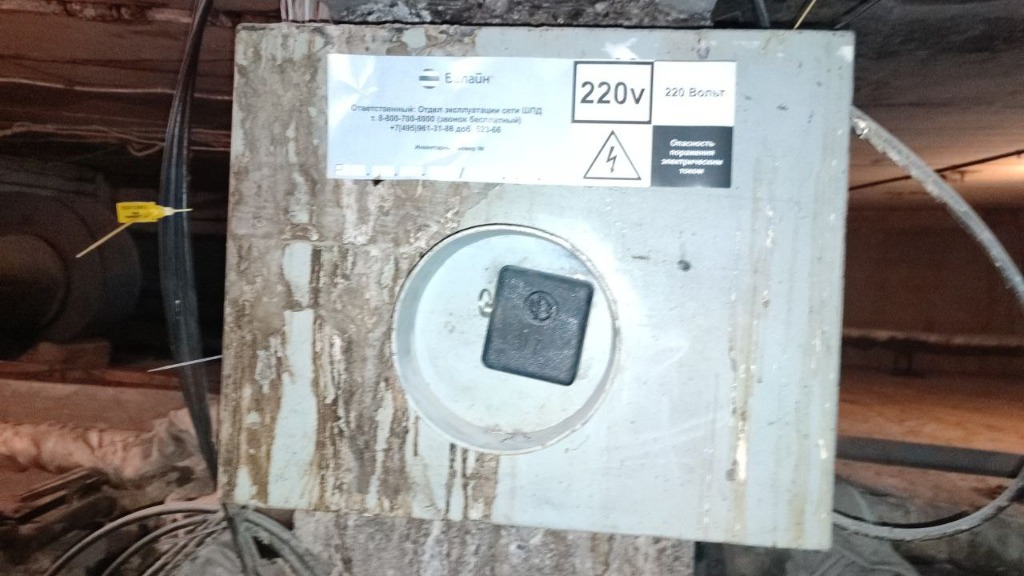shta-3: (210, 19, 857, 555)
